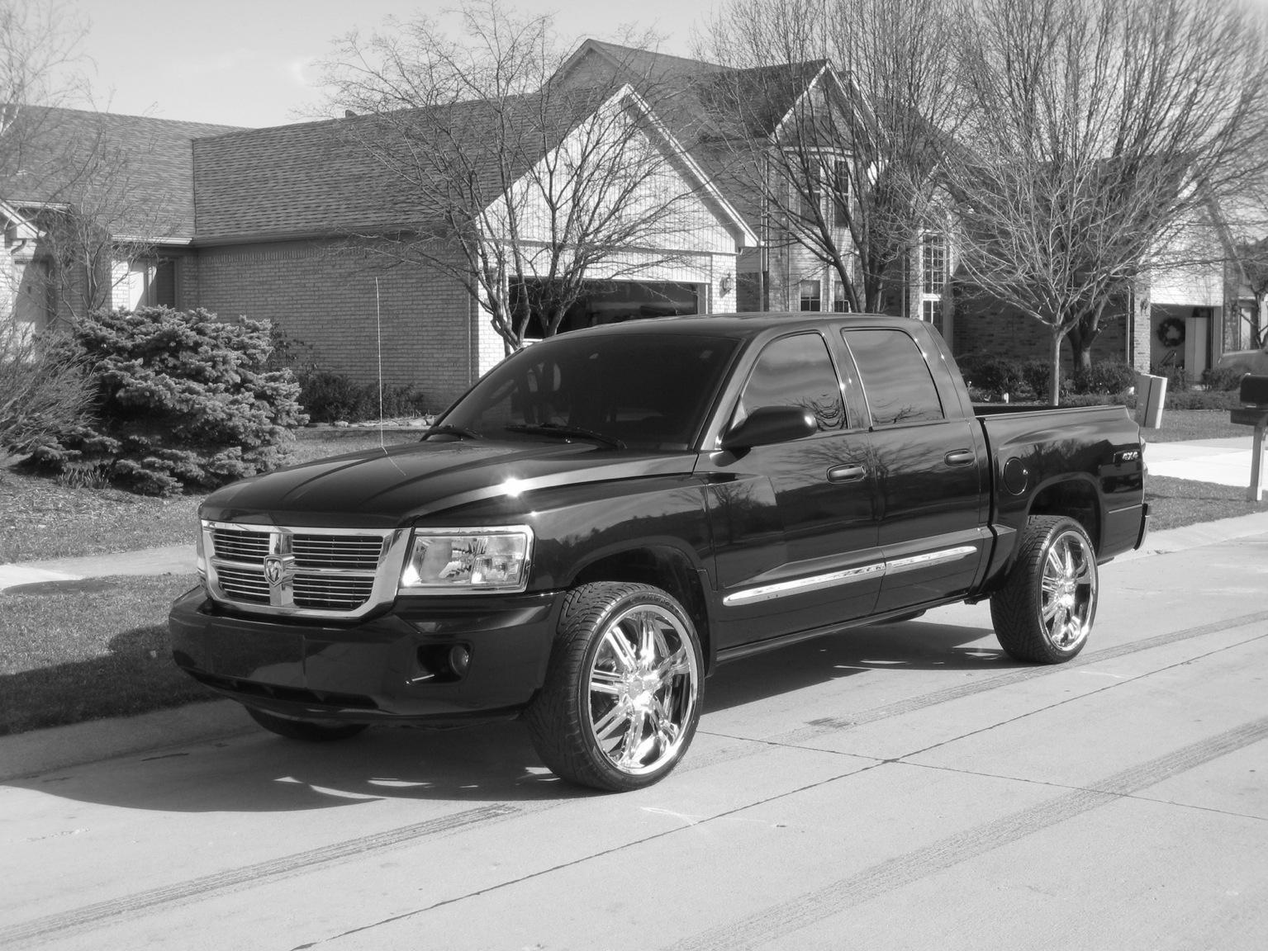car: (170, 318, 1152, 783)
